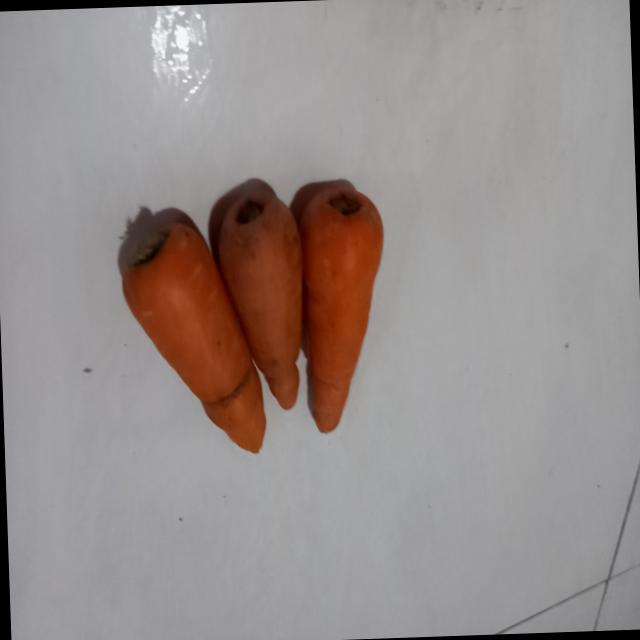carrot: (122, 223, 265, 452), (299, 186, 383, 432), (218, 190, 302, 410)
